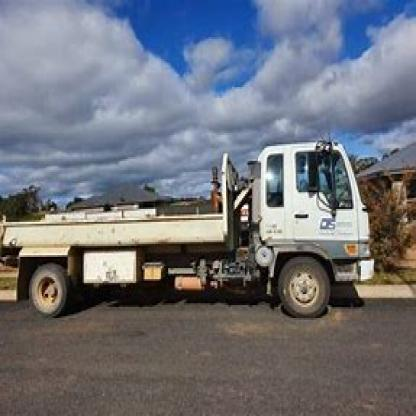dump_truck: (1, 137, 374, 329)
